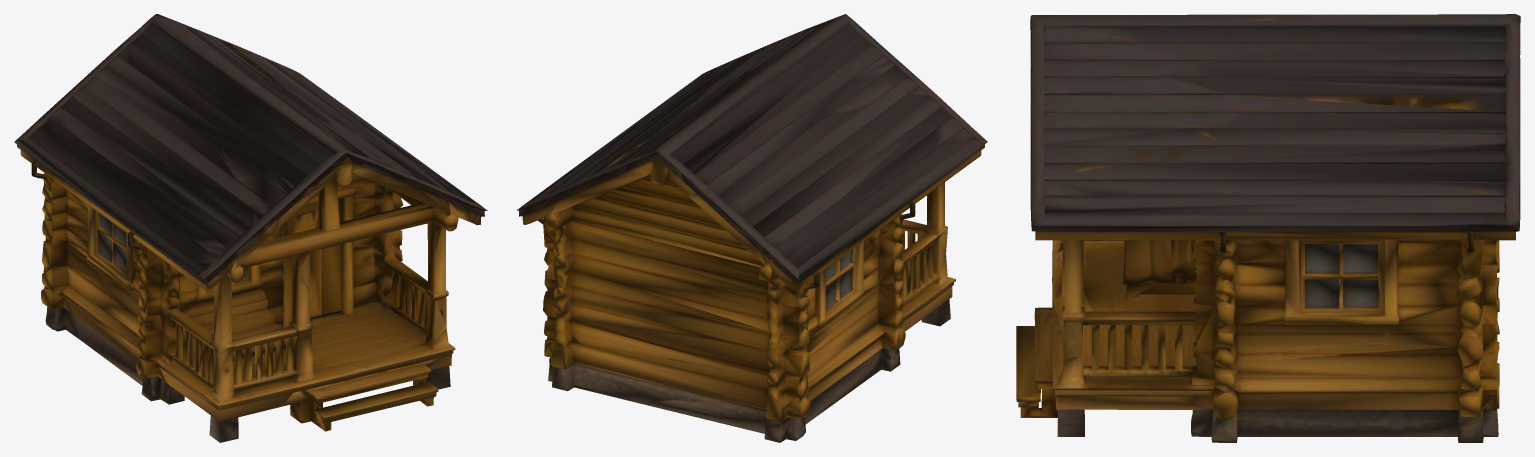
The model's file is worker_bunkhouse.glb.
The picture shows the model from 3 angles, left to right: view 1: azimuth 30°, elevation 25°; view 2: azimuth 150°, elevation 25°; view 3: azimuth 270°, elevation 25°; orthographic projection. The views are drawn at different scales.
Parts seen in each view (by area): view 1: node_0; view 2: node_0; view 3: node_0.
Boxes of the visible parts, x1,y1,x2,y2 form: node_0: (14, 14, 487, 442); node_0: (516, 14, 987, 442); node_0: (1016, 14, 1520, 442).
Bounding box in the file's own units: 0.7402 × 0.6719 × 0.8762.
Materials: 1 (1 with a texture image).
